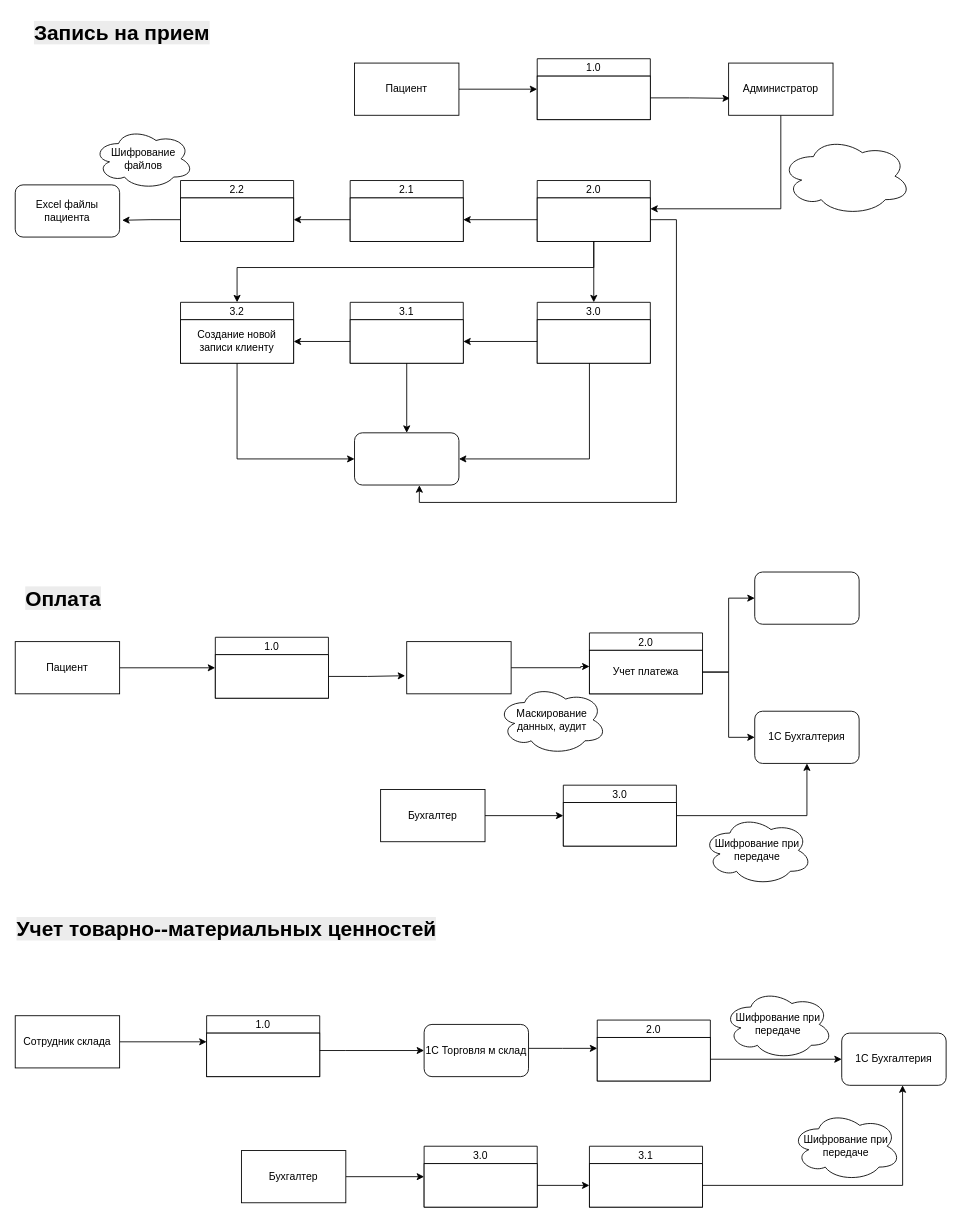
This 961x1222 diagram has some shape labels left out. Here are the shapes that lost their labels. From the top down, the centre of each, then its label:
the point at 593,97: Указывает персональные данные
the point at 845,175: RBAC, шифрование при передаче
the point at 237,219: Создание папки новому пациенту
the point at 406,219: Создание нового пациента
the point at 593,219: Поиск пациента в файле
the point at 406,341: Создание записи на прием
the point at 593,341: Поиск времени у врача
the point at 406,458: Excel файлы учета пациентов
the point at 806,597: Excel файлы с оплатами
the point at 271,676: Оплата по счету
the point at 458,667: Кассир
the point at 619,824: Процессинг платежа
the point at 263,1054: Работа с оборудованием
the point at 653,1059: Указание стоимости оборудования
the point at 480,1185: Формирование платежей
the point at 646,1185: Формирование контрольных документов
